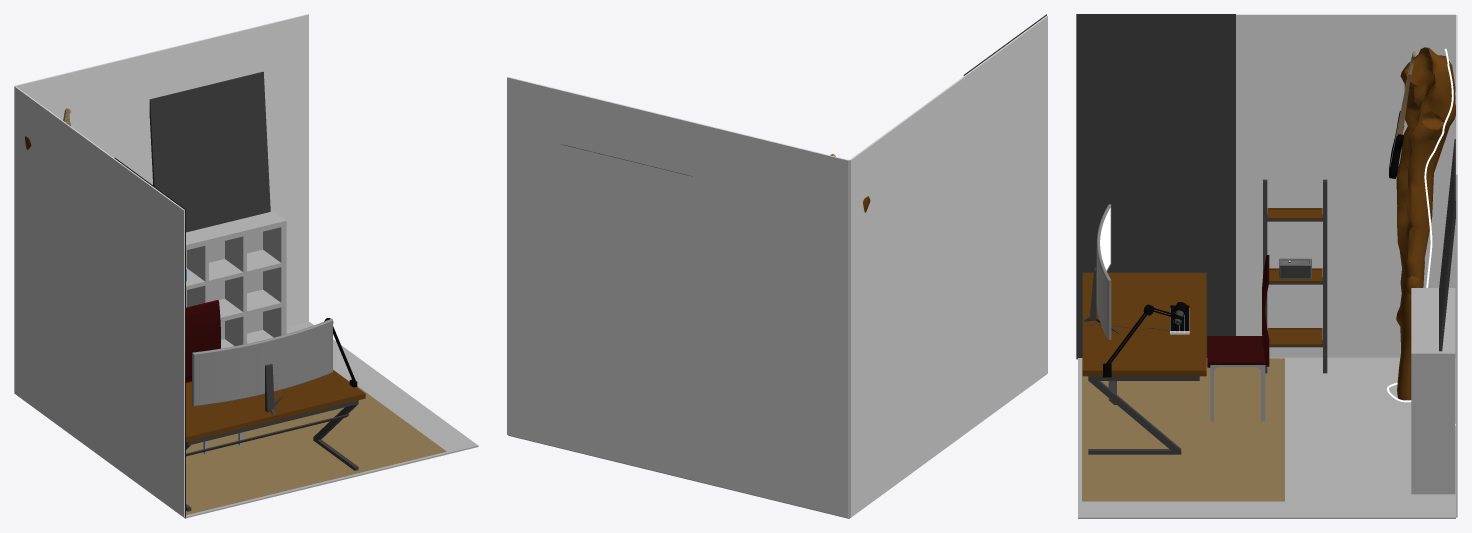
The model's file is bureau.gltf.
3 renders of one model, left to right at view 1: azimuth 30°, elevation 25°; view 2: azimuth 150°, elevation 25°; view 3: azimuth 270°, elevation 25°, orthographic. The views are drawn at different scales.
Visible parts, largest first — view 1: Cube.002, Cube.001, Black board, Carpet, Ikea, Screen frame, Desk wood, Cube, Desk frame, Cube.019; view 2: Cube.001, Cube.002; view 3: Cube.002, Black board tall, Cube, Carpet, Desk wood, Buche, Ikea, Shelve board, Desk frame, Shelve arm, Cube.018, Black board (+8 smaller).
Boxes of the visible parts, bbox=[...] form: Cube.002: bbox=[14, 86, 184, 517]; Cube.001: bbox=[15, 14, 308, 326]; Black board: bbox=[149, 72, 270, 232]; Carpet: bbox=[186, 386, 446, 514]; Ikea: bbox=[186, 209, 286, 348]; Screen frame: bbox=[192, 318, 332, 406]; Desk wood: bbox=[186, 370, 365, 442]; Cube: bbox=[184, 321, 478, 518]; Desk frame: bbox=[186, 400, 358, 511]; Cube.019: bbox=[186, 300, 220, 381]; Cube.001: bbox=[507, 77, 849, 517]; Cube.002: bbox=[849, 16, 1047, 517]; Cube.002: bbox=[1236, 14, 1455, 357]; Black board tall: bbox=[1076, 14, 1235, 359]; Cube: bbox=[1078, 357, 1455, 518]; Carpet: bbox=[1082, 358, 1284, 501]; Desk wood: bbox=[1082, 272, 1206, 376]; Buche: bbox=[1396, 47, 1455, 400]; Ikea: bbox=[1411, 288, 1455, 494]; Shelve board: bbox=[1267, 208, 1322, 345]; Desk frame: bbox=[1088, 376, 1199, 454]; Shelve arm: bbox=[1263, 179, 1327, 373]; Cube.018: bbox=[1207, 336, 1265, 367]; Black board: bbox=[1439, 139, 1455, 351].
Size of the model in its own units: 48.01 by 49.14 by 48.09.
